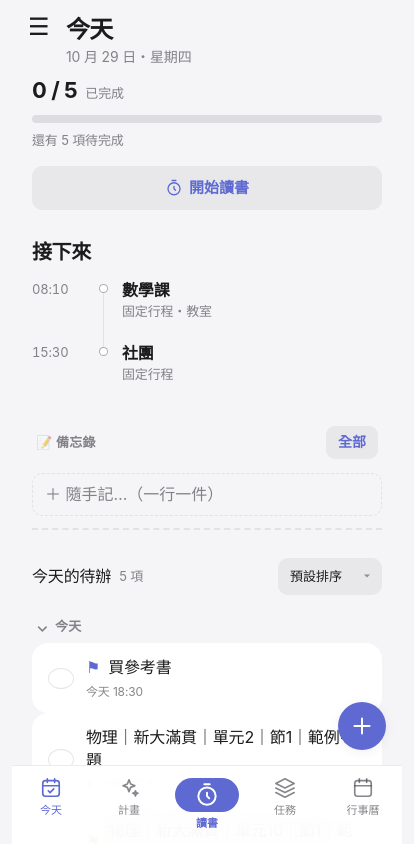
Test case: Legacy 相容 › /plans 回空陣列時退回 legacy，畫面照常
expect the heading "今天" is shown: met, box [66,15,113,44]
expect the text "買參考書" is shown: met, box [108,657,172,677]
Click the button "計畫": (129, 805) [90,766,168,843]
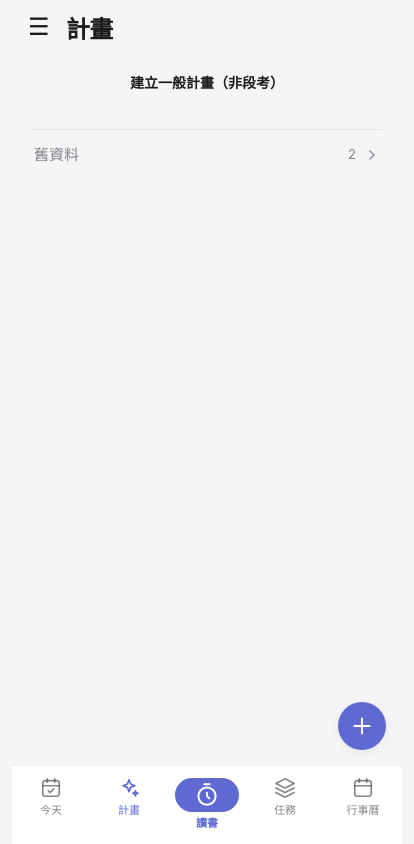
expect the heading "計畫" is shown: met, box [66,16,113,45]
